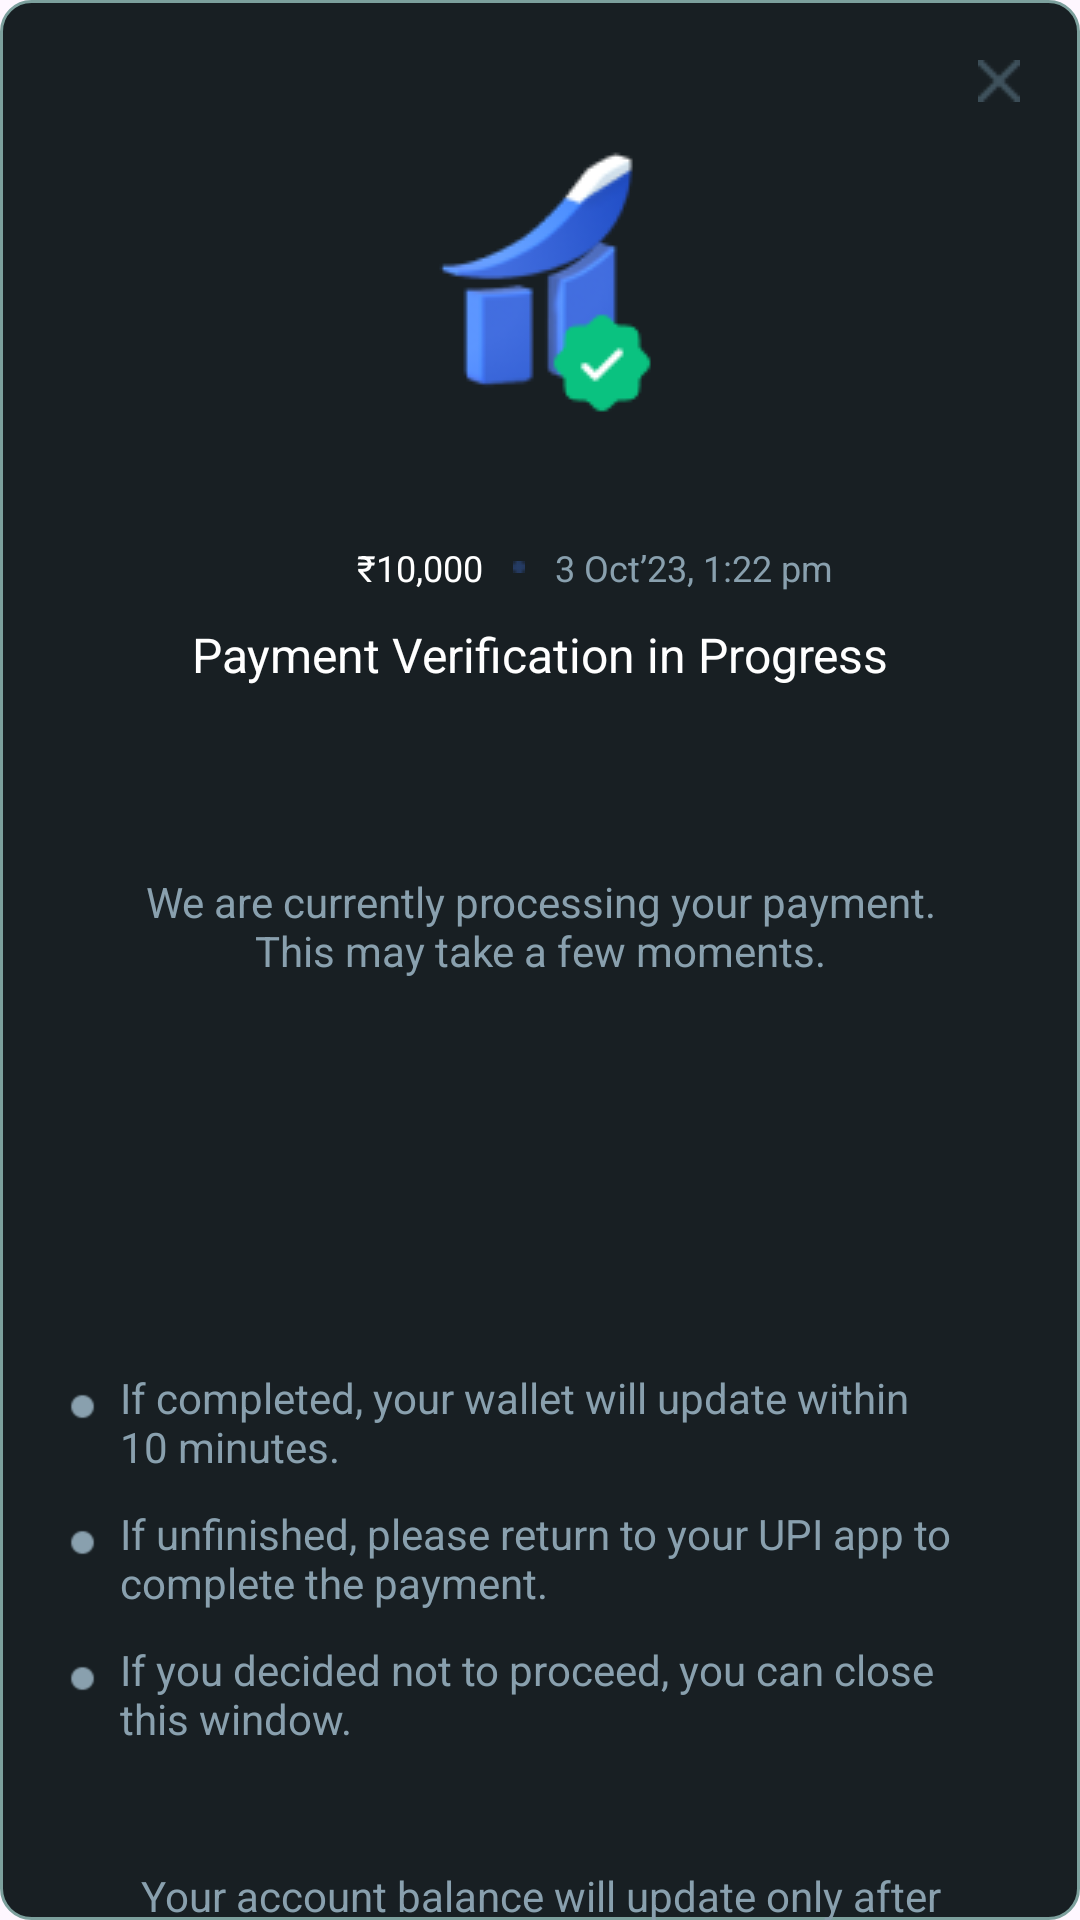

Locate icon controls on the screen. Image size 1080px×1920px, boxes as (x1, y1, x2, y2).
cross: (978, 60, 1020, 102)
